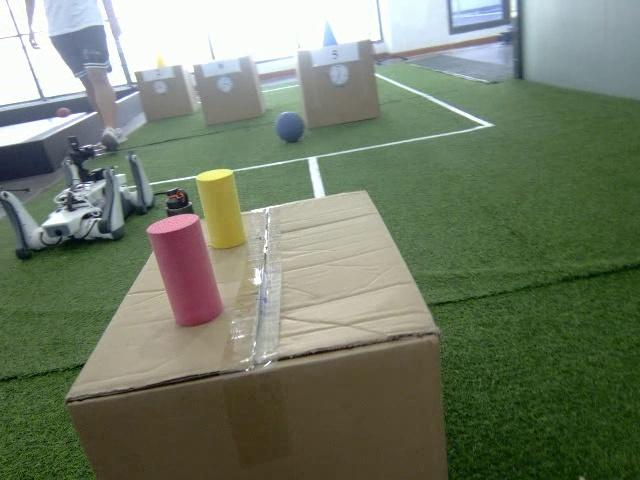red_cylinder: (145, 216, 224, 319)
yellow_cylinder: (198, 173, 248, 247)
